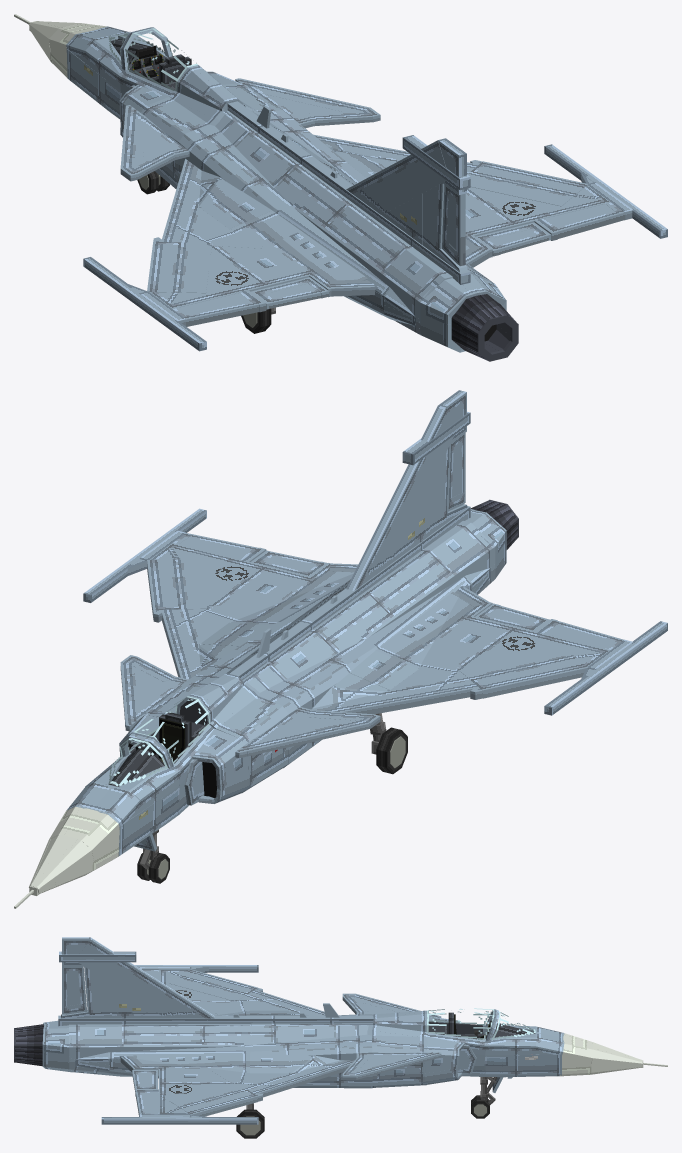
The model's file is jas39e.gltf.
3 views of the same model, one above another, from view 1: azimuth 30°, elevation 25°; view 2: azimuth 150°, elevation 25°; view 3: azimuth 270°, elevation 25° (orthographic). The views are drawn at different scales.
Parts seen in each view (by area): view 1: cube (×49); view 2: cube (×35); view 3: cube (×50).
Part boxes in pixels (box(x1,y1,x2,y2)): cube (×49): box(66, 49, 667, 351); cube (×35): box(83, 405, 667, 855); cube (×50): box(42, 937, 561, 1124).
Bounding box in the file's own units: 12.9 × 6.89 × 23.07.
Materials: 1 (1 with a texture image).
